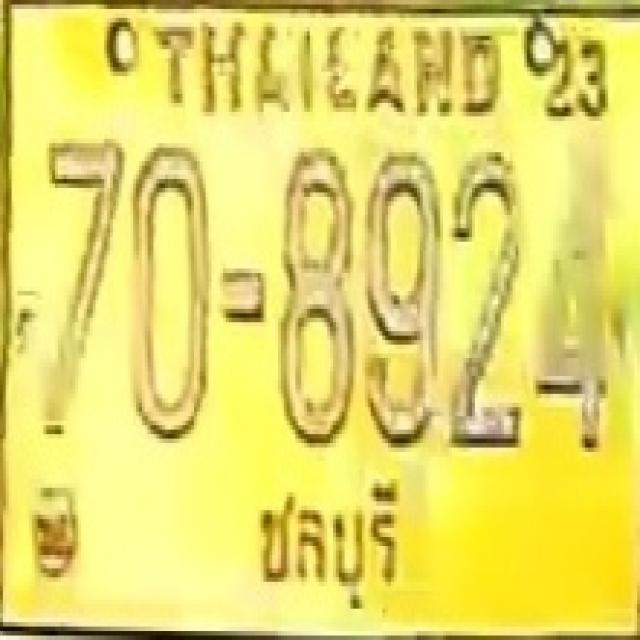0: (129, 141, 210, 441)
2: (444, 150, 522, 450)
4: (534, 146, 618, 454)
7: (39, 134, 126, 439)
8: (276, 143, 354, 448)
9: (362, 148, 440, 448)
CBI: (232, 461, 408, 621)
